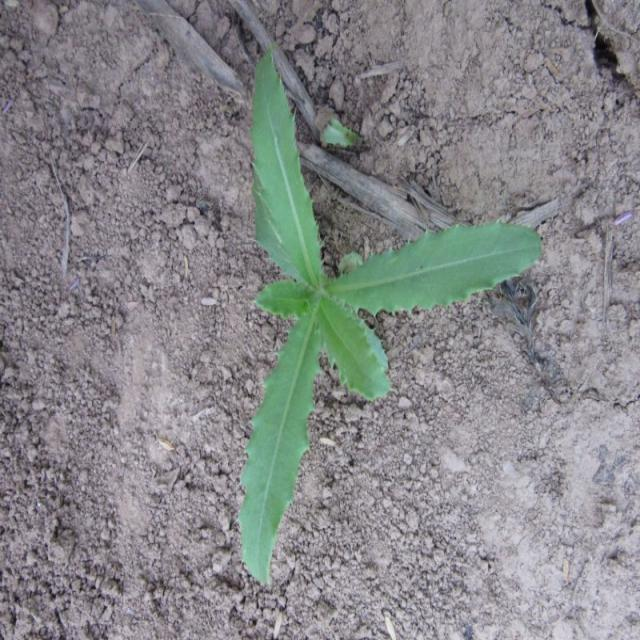field_thistle: (207, 23, 531, 592)
